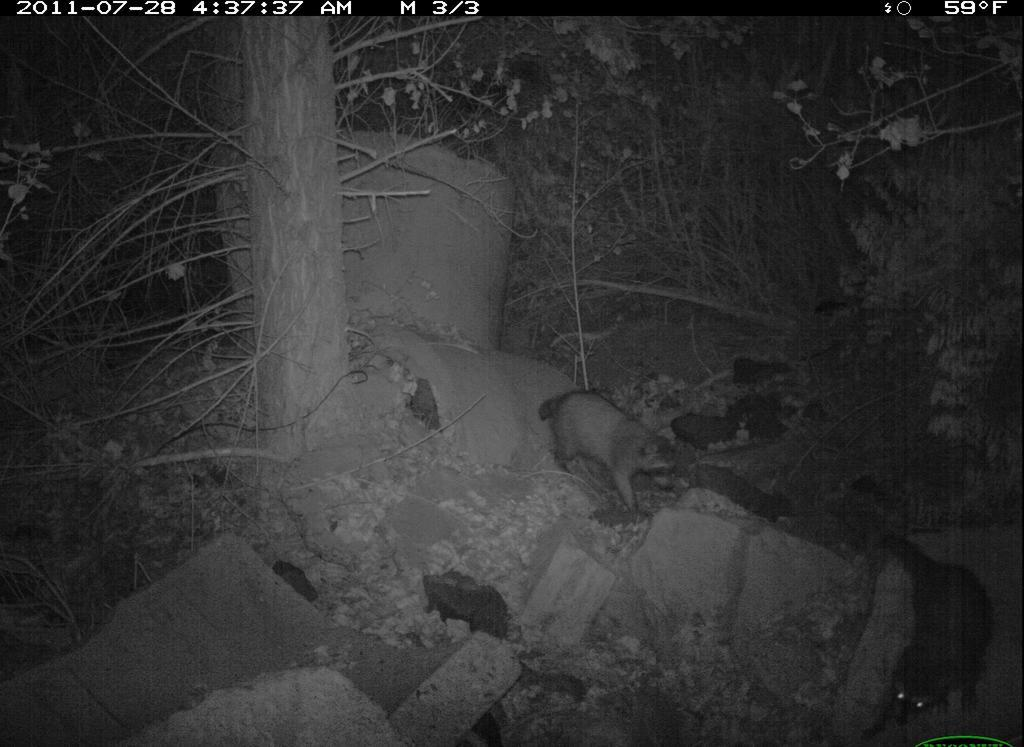raccoon: (862, 511, 1005, 733), (534, 385, 688, 524)
